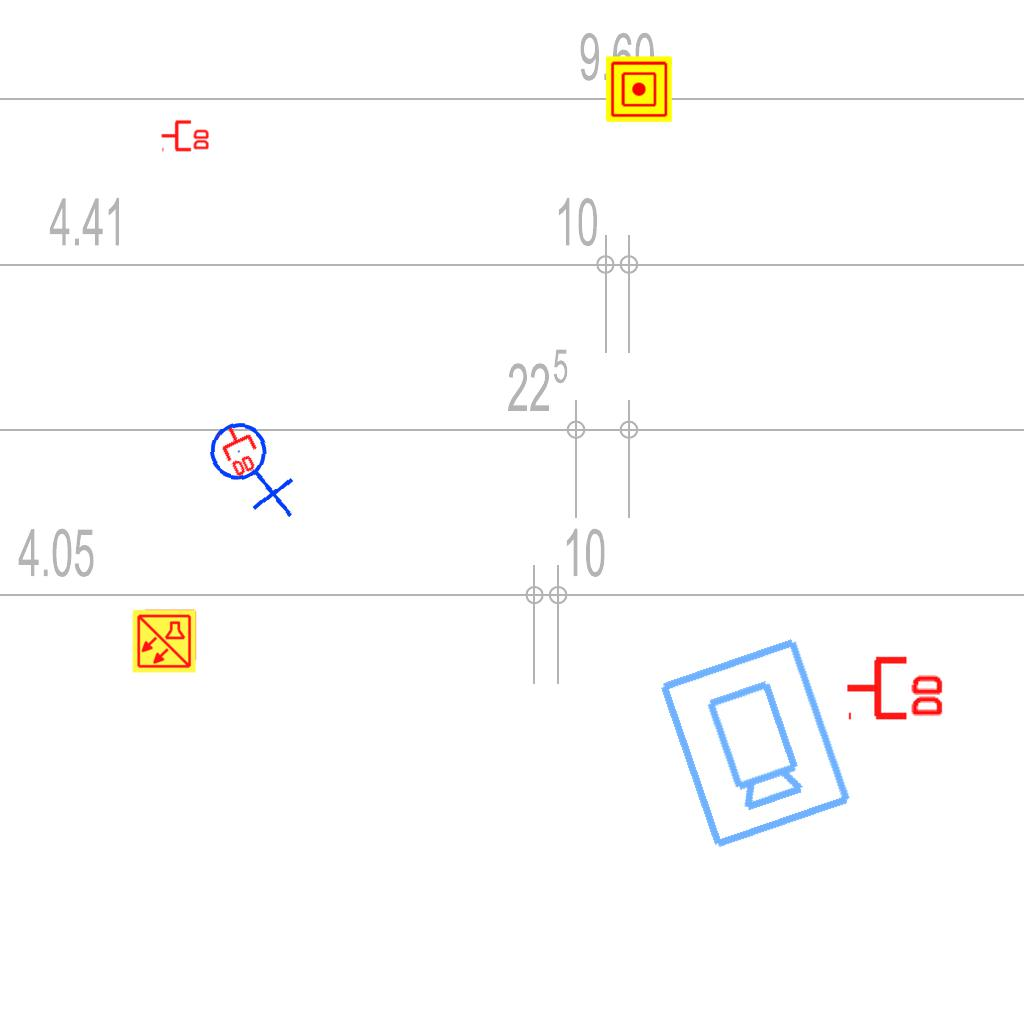Datenanschluss_zweifach: (844, 652, 947, 721), (214, 419, 268, 480), (160, 118, 211, 152)
Elektroanschluss_allgemein_230V_Geraeteanschlussdose_230V: (203, 411, 306, 519)
KFO_Kamera_mit_Festobjektiv: (651, 631, 857, 855)
NAM-Nichtautomatischer_Melder: (606, 56, 672, 122)
OKW_Multisensormelder_(Kombination_optischer_Rauch-Kahlenmonoxid_Waerme-Melder): (131, 608, 197, 674)
